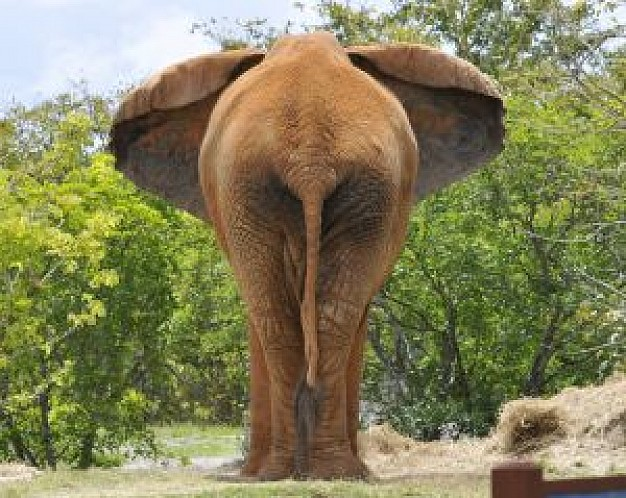elephant: (109, 30, 508, 485)
